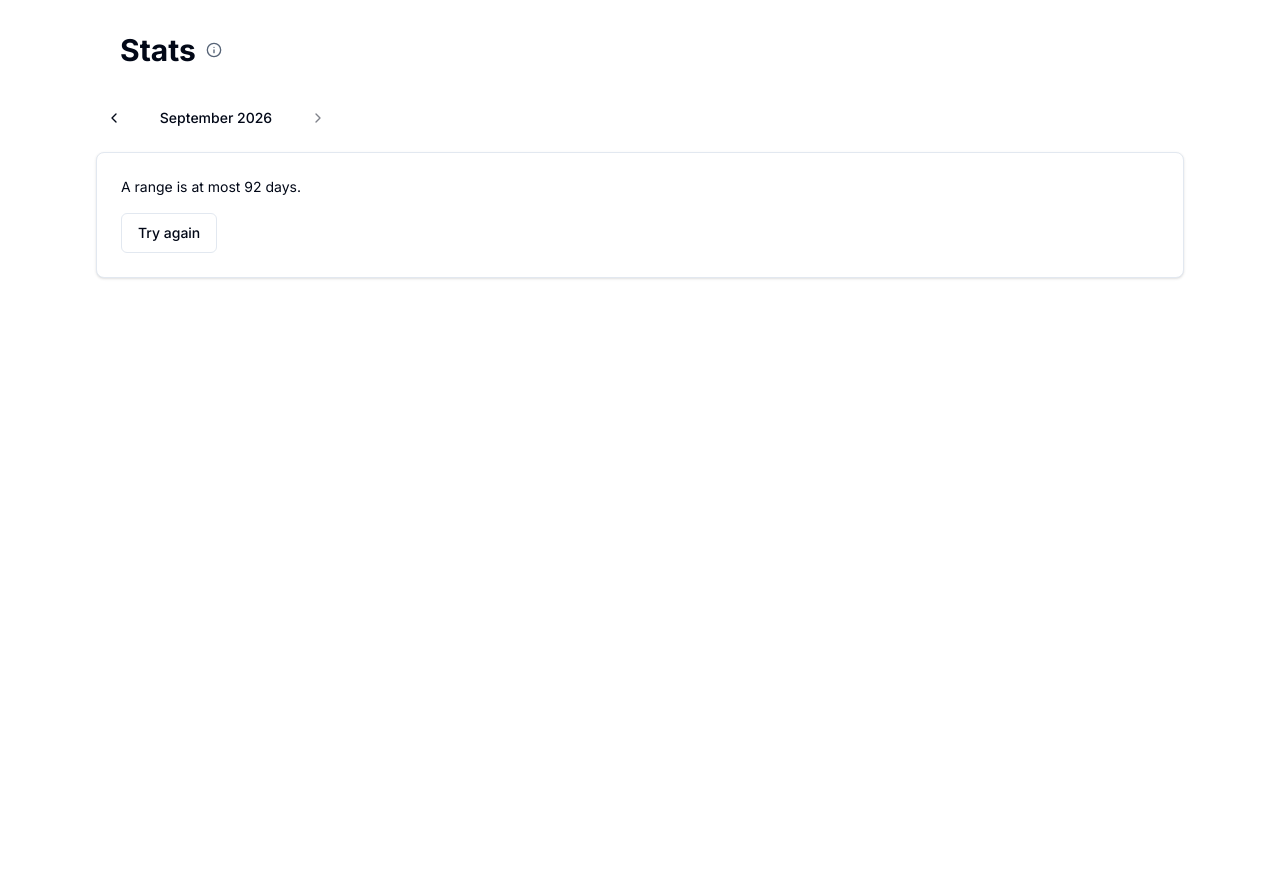
it: the stats screen › shows the API's message when the request fails, and tries again
Check: the text "A range is at most 92 days." is shown, box [121, 178, 301, 195]
Step 1. Click the button "Try again" → (169, 233), box [121, 213, 217, 253]
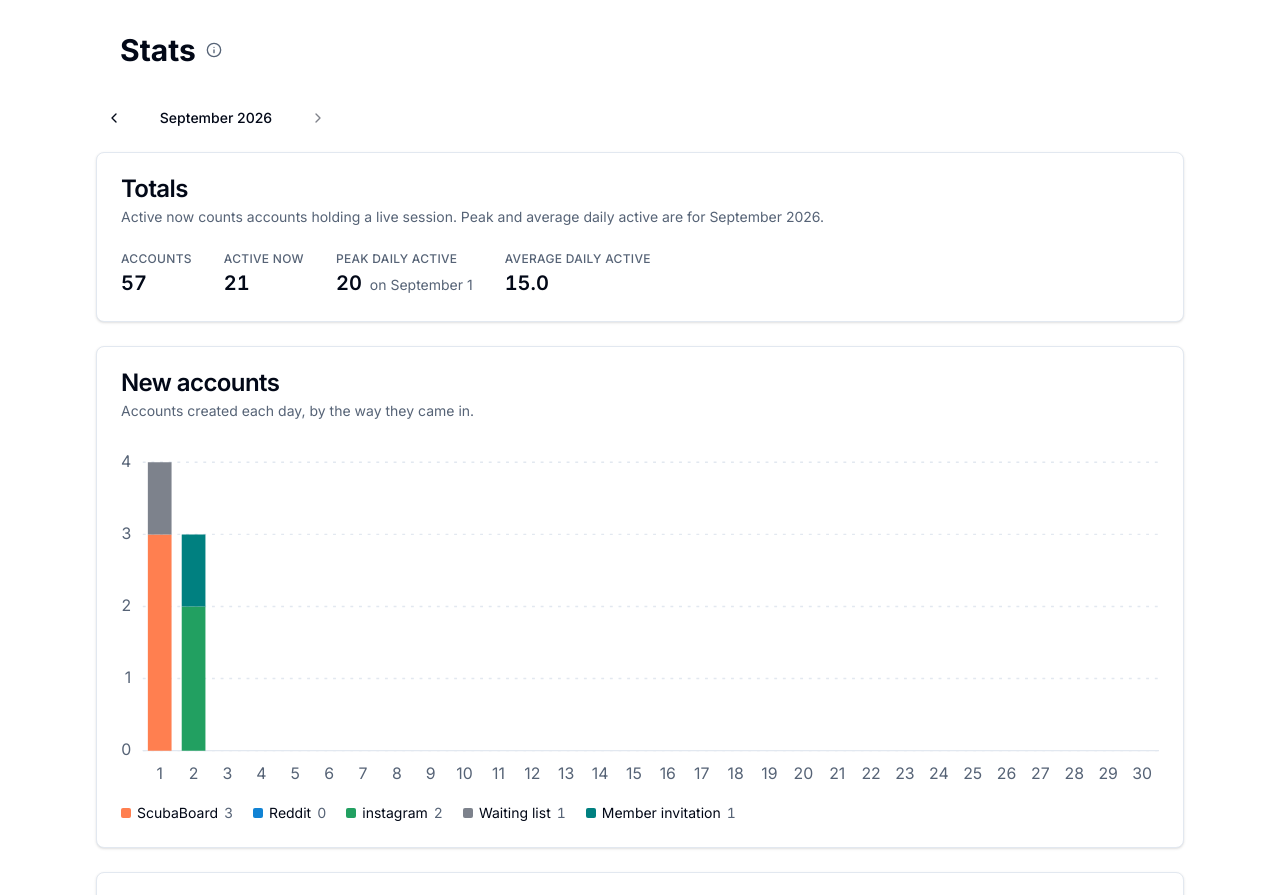
Check: the text "57" is shown, box [121, 269, 147, 297]
